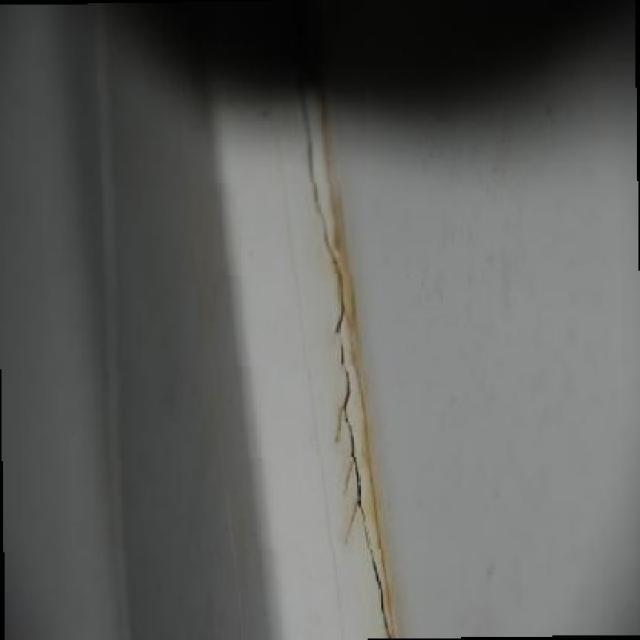crack: (341, 420, 392, 637), (321, 204, 354, 413), (300, 106, 323, 203)
